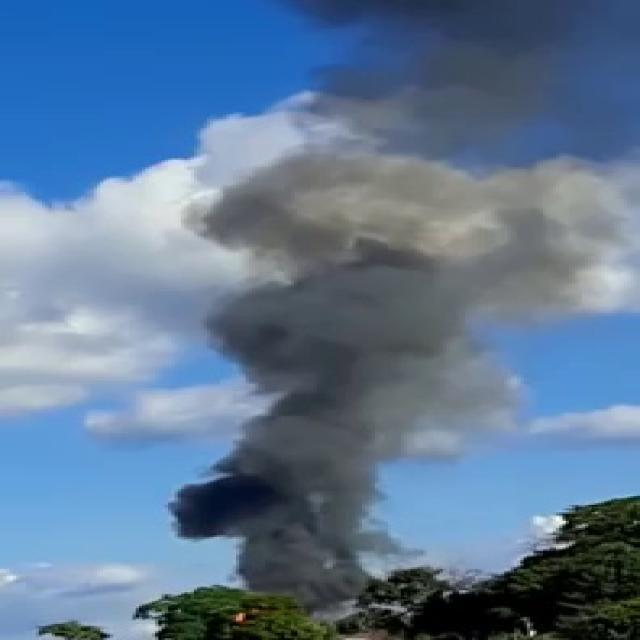Smoke: (148, 0, 640, 626)
